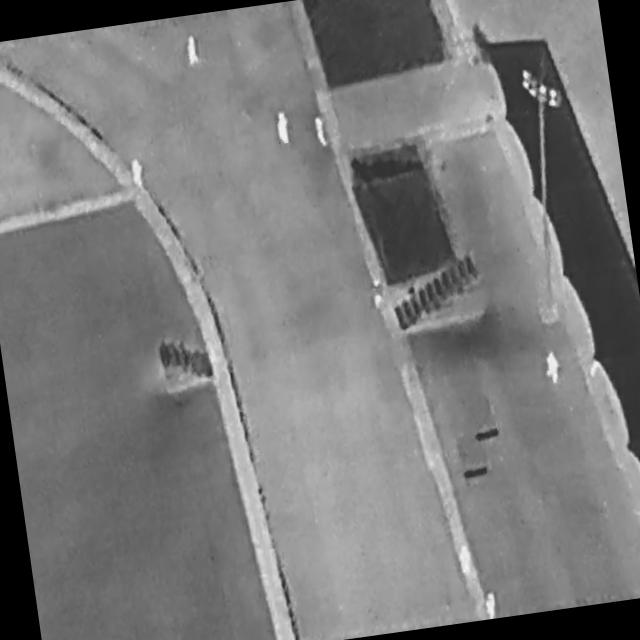person: (183, 32, 204, 69), (273, 110, 293, 148), (543, 348, 563, 386), (369, 275, 387, 315), (312, 112, 331, 149), (456, 544, 475, 577), (128, 154, 146, 188), (482, 588, 500, 620)
